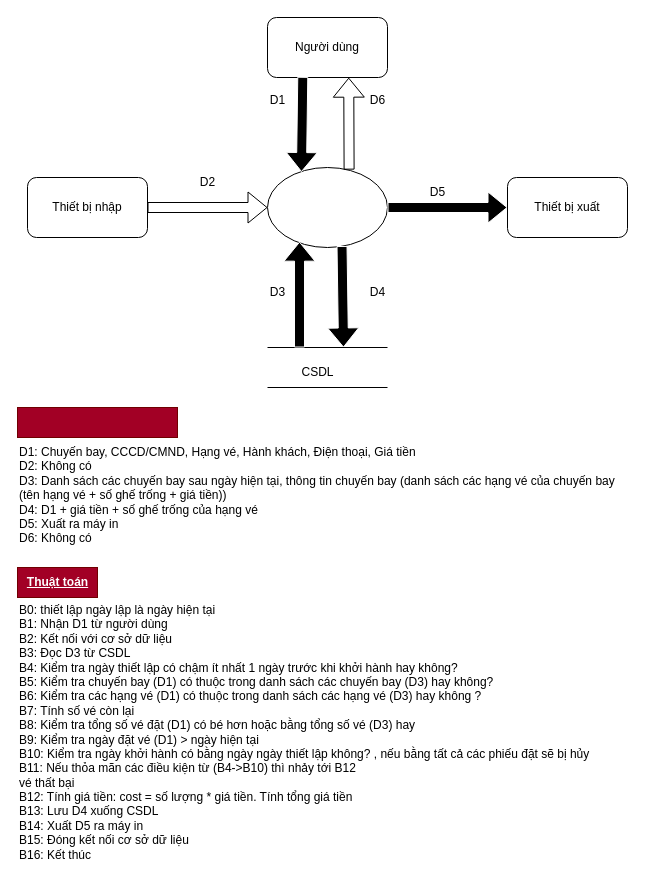
The diagram is 655 pixels wide and 885 high, and some of its shapes have lost their labels. Here are the shapes that lost their labels. From the top down, the centre of each, then its label:
[327,207]: Ghi nhận đặt vé
[97,422]: Mô tả các luồng dữ liệu
